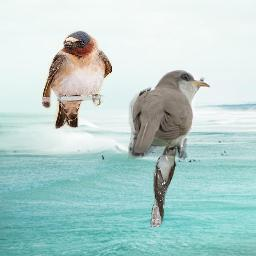Cuckoo: (128, 69, 210, 159), (150, 144, 181, 227)
Swallow: (42, 30, 112, 129)
